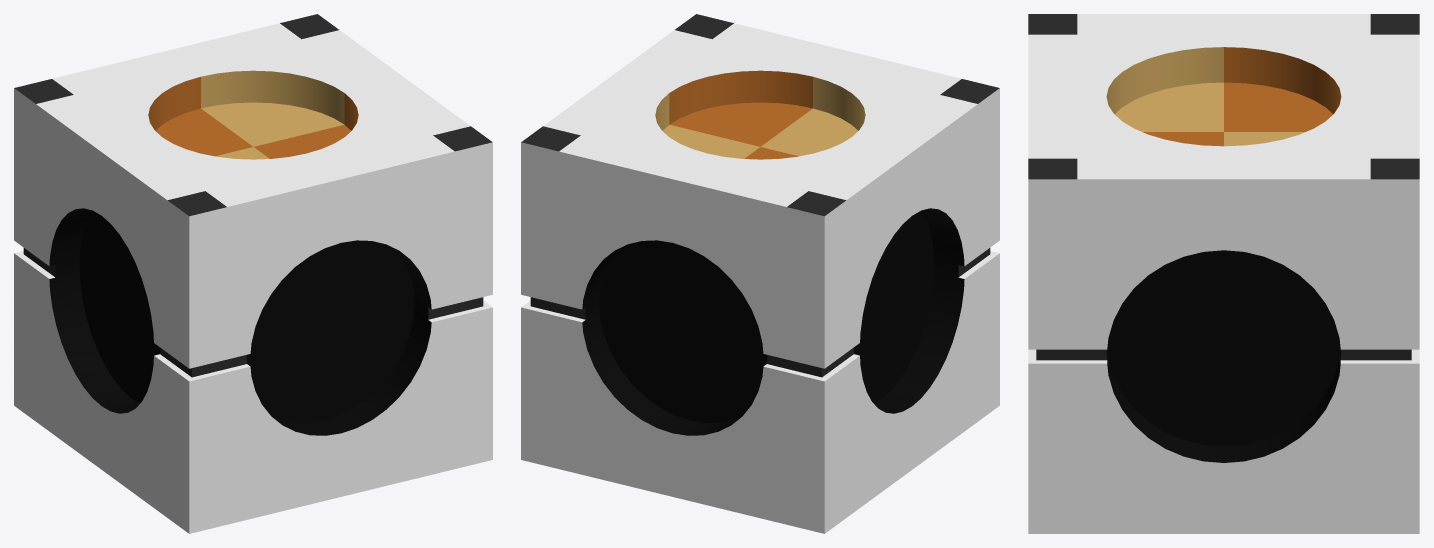
The model's file is Undestroy.fbx.
3 views of the same model, side by side, from view 1: azimuth 30°, elevation 25°; view 2: azimuth 150°, elevation 25°; view 3: azimuth 270°, elevation 25° (orthographic). The views are drawn at different scales.
Visible parts, largest first — view 1: UnDestory; view 2: UnDestory; view 3: UnDestory.
Boxes of the visible parts, box(x1,y1,x2,y2) form: UnDestory: box(14, 14, 492, 533); UnDestory: box(521, 14, 999, 533); UnDestory: box(1028, 14, 1419, 533).
Bounding box in the file's own units: 5 × 5 × 5.
